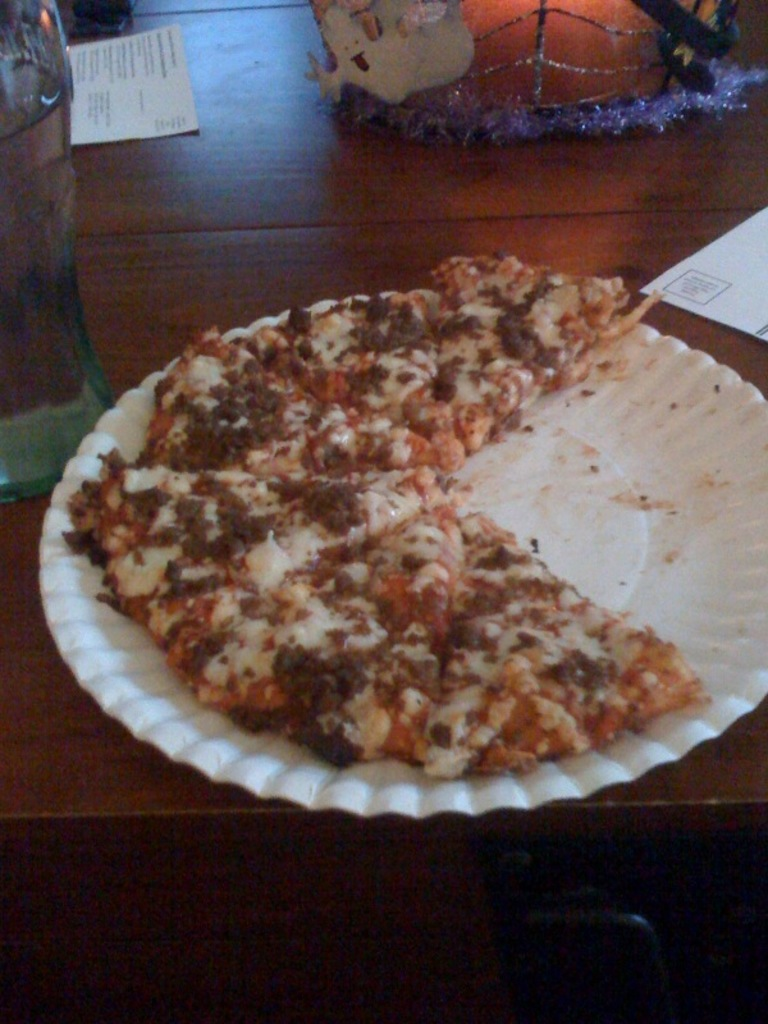Pizza: (35, 259, 766, 811)
